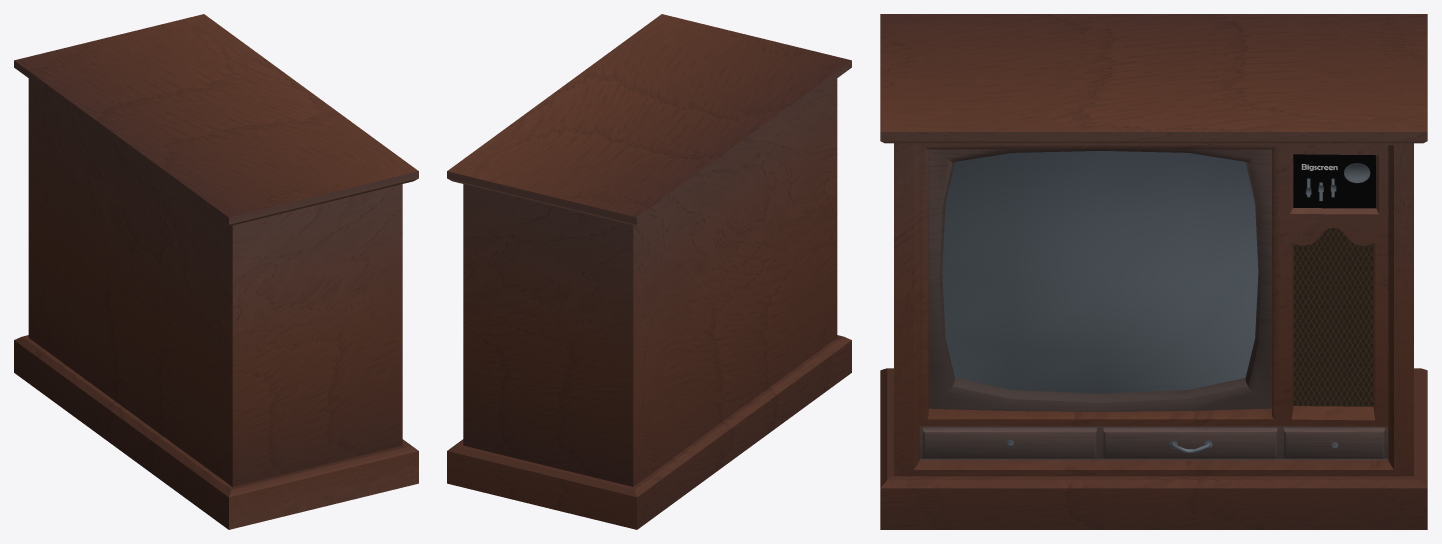
3 renders of one model, left to right at view 1: azimuth 30°, elevation 25°; view 2: azimuth 150°, elevation 25°; view 3: azimuth 270°, elevation 25°, orthographic. The views are drawn at different scales.
Visible parts, largest first — view 1: TV; view 2: TV; view 3: TV.
Boxes of the visible parts, x1=… form: TV: x1=14, y1=14, x2=418, y2=529; TV: x1=447, y1=14, x2=851, y2=529; TV: x1=880, y1=14, x2=1427, y2=529.
Bounding box in the file's own units: 421 × 662 × 825.
